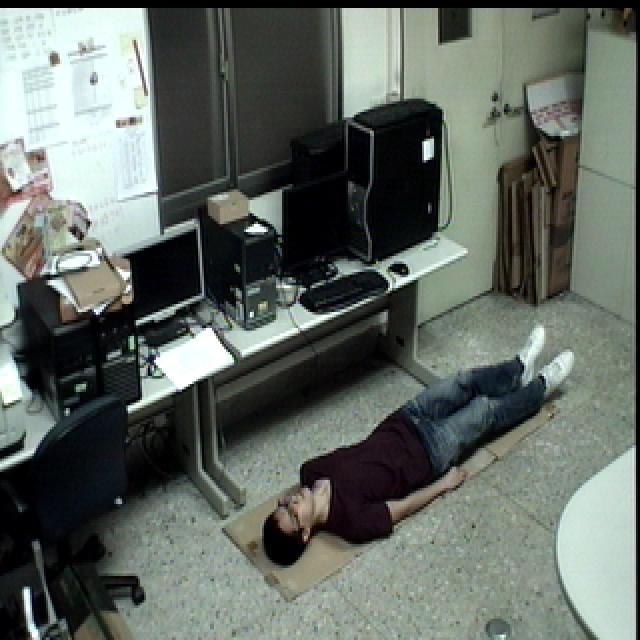lie: (260, 319, 579, 586)
